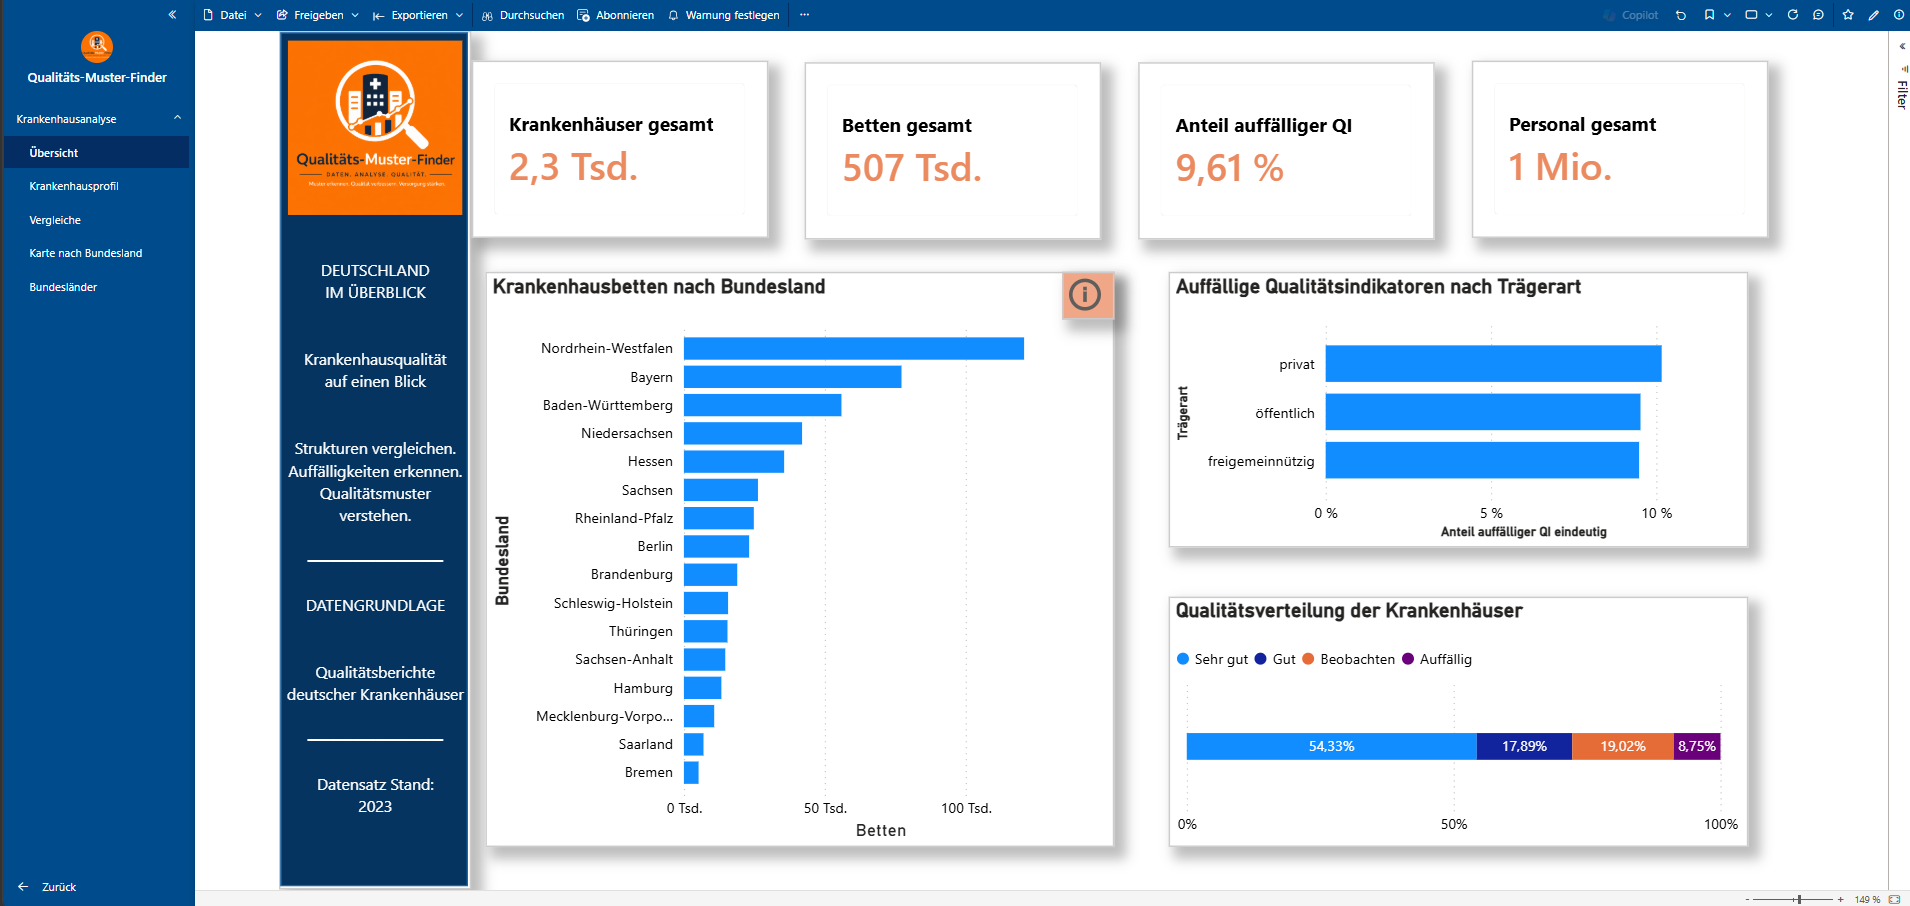

The page's visual inventory and layout, read from the dashboard file:
{"tool":"powerbi","page":{"name":"Übersicht","canvas":[1280,720],"ordinal":0},"visuals":[{"type":"shape","box":[0,0,161.1,720],"z":0},{"type":"cardVisual","fields":{"Data":["Berechnungen.Anzahl Krankenhäuser"]},"box":[161.6,25,249.1,149.1],"z":1000},{"type":"image","box":[0,7.9,161.1,146.5],"z":2000},{"type":"textbox","box":[0,166.4,161.6,553],"z":3000},{"type":"cardVisual","fields":{"Data":["Berechnungen.Personal gesamt"]},"box":[1000.2,25,249.1,149.1],"z":4000},{"type":"cardVisual","fields":{"Data":["Berechnungen.Betten gesamt"]},"box":[441.1,26,249.1,149.1],"z":5000},{"type":"cardVisual","fields":{"Data":["Berechnungen.Anteil auffälliger QI eindeutig"]},"box":[720.6,26,249.1,149.1],"z":6000},{"type":"clusteredBarChart","title":"Krankenhausbetten nach Bundesland","fields":{"Category":["SO.SO.Bundesland"],"Y":["Sum(SO.SO.Betten)"]},"box":[173.1,202,527.1,482.9],"z":7000},{"type":"actionButton","box":[656.8,202,43.2,40.2],"z":8000},{"type":"barChart","title":"Auffällige Qualitätsindikatoren nach Trägerart","fields":{"Category":["SO.KH.Träger.Art"],"Y":["Berechnungen.Anteil auffälliger QI eindeutig"]},"box":[746.3,202,486.3,231.2],"z":9000},{"type":"hundredPercentStackedBarChart","title":"Qualitätsverteilung der Krankenhäuser","fields":{"Y":["Berechnungen.KH Sehr gut","Berechnungen.KH Gut","Berechnungen.KH Beobachten","Berechnungen.KH Auffällig"]},"box":[746.3,474.1,485.6,210.6],"z":10000}]}

Visuals, with their boxes on the page's 1280x720 design canvas (x1, y1, x2, y2). These are canvas units, not pixel positions in the 1910x906 screenshot, which may show the page scaled, cropped or inside an application window:
shape: (left=0, top=0, right=161, bottom=720)
cardVisual - Berechnungen.Anzahl Krankenhäuser: (left=162, top=25, right=411, bottom=174)
image: (left=0, top=8, right=161, bottom=154)
textbox: (left=0, top=166, right=162, bottom=719)
cardVisual - Berechnungen.Personal gesamt: (left=1000, top=25, right=1249, bottom=174)
cardVisual - Berechnungen.Betten gesamt: (left=441, top=26, right=690, bottom=175)
cardVisual - Berechnungen.Anteil auffälliger QI eindeutig: (left=721, top=26, right=970, bottom=175)
"Krankenhausbetten nach Bundesland" clusteredBarChart: (left=173, top=202, right=700, bottom=685)
actionButton: (left=657, top=202, right=700, bottom=242)
"Auffällige Qualitätsindikatoren nach Trägerart" barChart: (left=746, top=202, right=1233, bottom=433)
"Qualitätsverteilung der Krankenhäuser" hundredPercentStackedBarChart: (left=746, top=474, right=1232, bottom=685)
